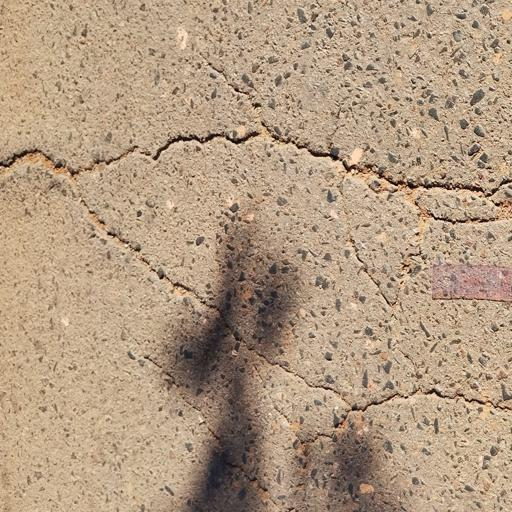GRIETA: (71, 180, 227, 323), (151, 130, 337, 162), (199, 52, 272, 131), (0, 146, 152, 178), (363, 386, 511, 413)
PIEL DE COCODRILO: (112, 319, 362, 511), (327, 156, 511, 311)
